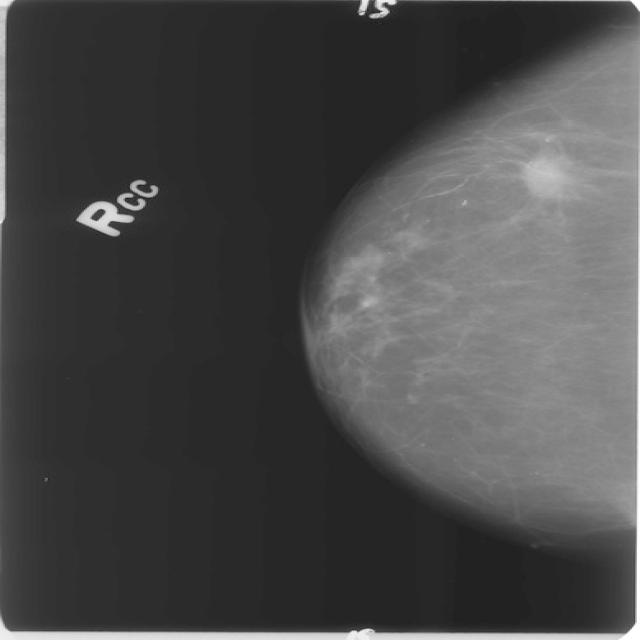tumour: (522, 148, 584, 200)
